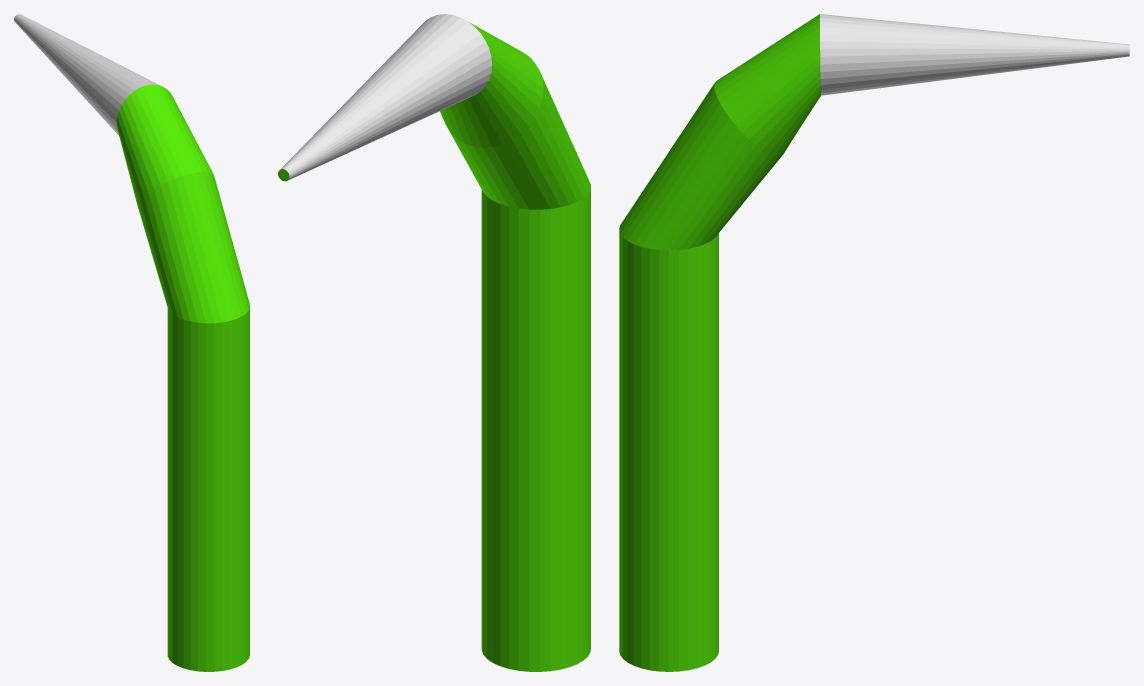
File: welder.fbx
3 views of the same model, side by side, from view 1: azimuth 30°, elevation 25°; view 2: azimuth 150°, elevation 25°; view 3: azimuth 270°, elevation 25° (orthographic). The views are drawn at different scales.
Visible parts, largest first — view 1: Welder; view 2: Welder; view 3: Welder.
Boxes of the visible parts, x1,y1,x2,y2 form: Welder: (14, 14, 249, 671); Welder: (278, 14, 590, 671); Welder: (619, 14, 1129, 671).
Size of the model in its own units: 5.21 by 36.48 by 26.66.
